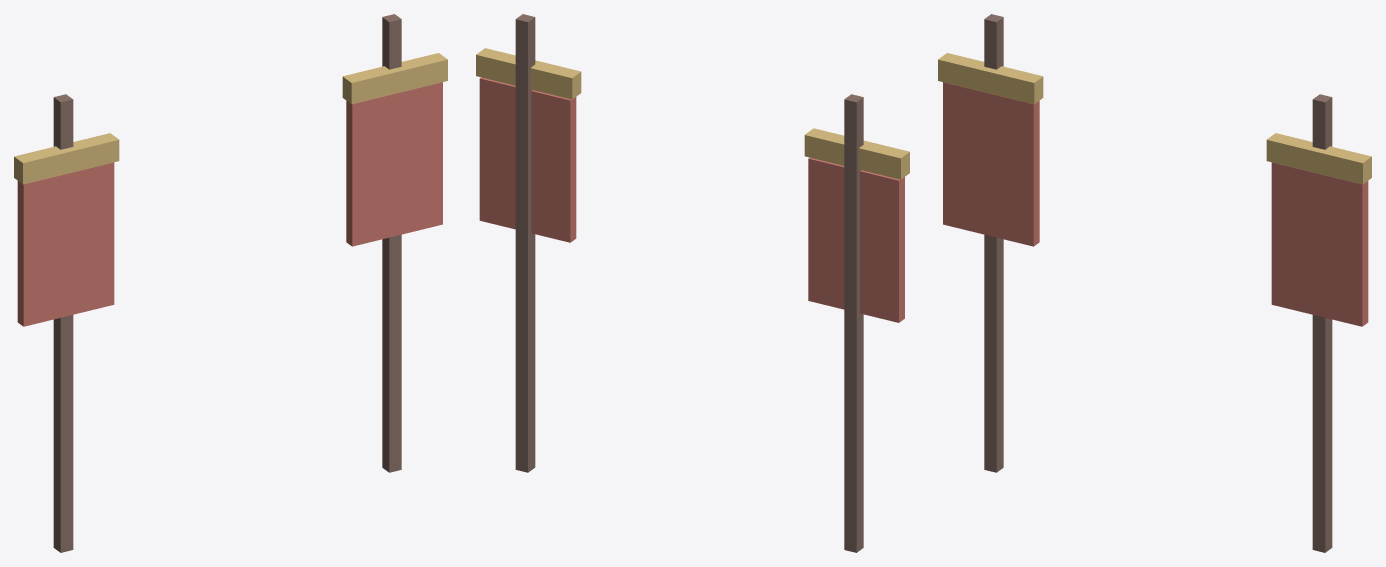
The model's file is clan_banner_pair.glb.
The picture shows the model from 3 angles, left to right: view 1: azimuth 30°, elevation 25°; view 2: azimuth 150°, elevation 25°; view 3: azimuth 330°, elevation 25°; orthographic projection.
Parts seen in each view (by area): view 1: cloth, wood_dark, gold; view 2: cloth, wood_dark, gold; view 3: cloth, wood_dark, gold.
Boxes of the visible parts, bbox=[...] form: cloth: bbox=[17, 82, 442, 326]; wood_dark: bbox=[53, 14, 401, 552]; gold: bbox=[14, 53, 447, 184]; cloth: bbox=[479, 77, 904, 322]; wood_dark: bbox=[515, 14, 863, 552]; gold: bbox=[476, 48, 909, 179]; cloth: bbox=[943, 82, 1368, 326]; wood_dark: bbox=[984, 14, 1332, 552]; gold: bbox=[938, 53, 1371, 184].
Bounding box in the file's own units: 3.75 × 3.8 × 0.175.
